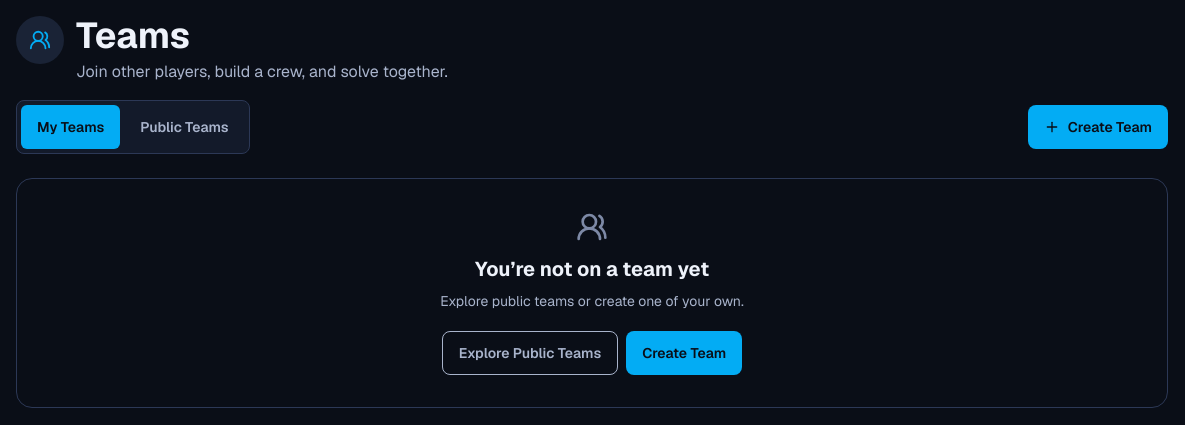
Test: Teams hub page — empty states › 60. Explore Public Teams changes view without fetching
The image size is (1185, 425).
What coordinates should you click on to do the following:
click the button "Explore Public Teams"
I would click on:
 (530, 353)
Its box is x1=442 y1=331 x2=618 y2=375.
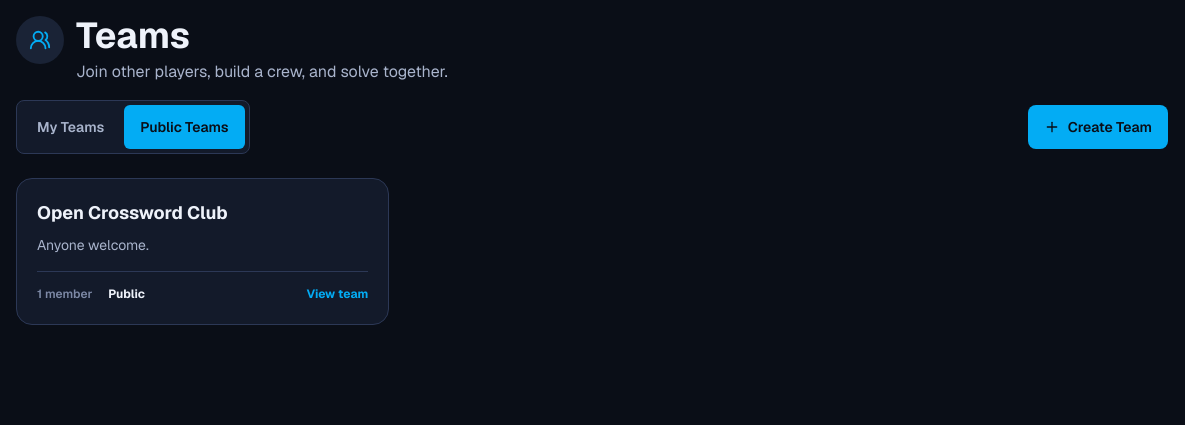
Result: the heading "Open Crossword Club" is shown at x1=37 y1=201 x2=228 y2=224
